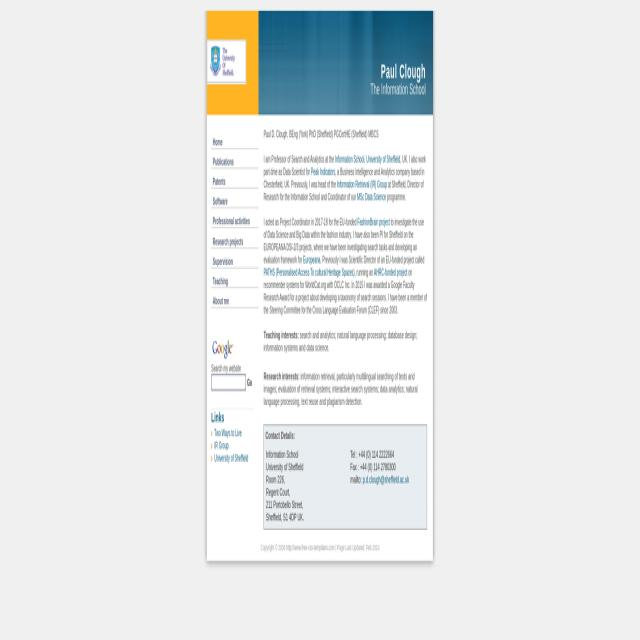button: (207, 42, 246, 84), (211, 337, 234, 363), (247, 376, 252, 390)
field: (212, 375, 246, 391)
